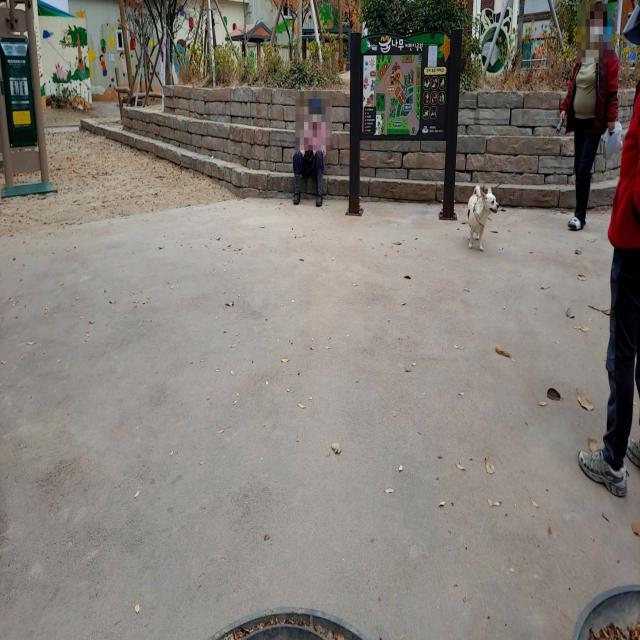Leashed_Dog: (468, 109, 587, 250)
